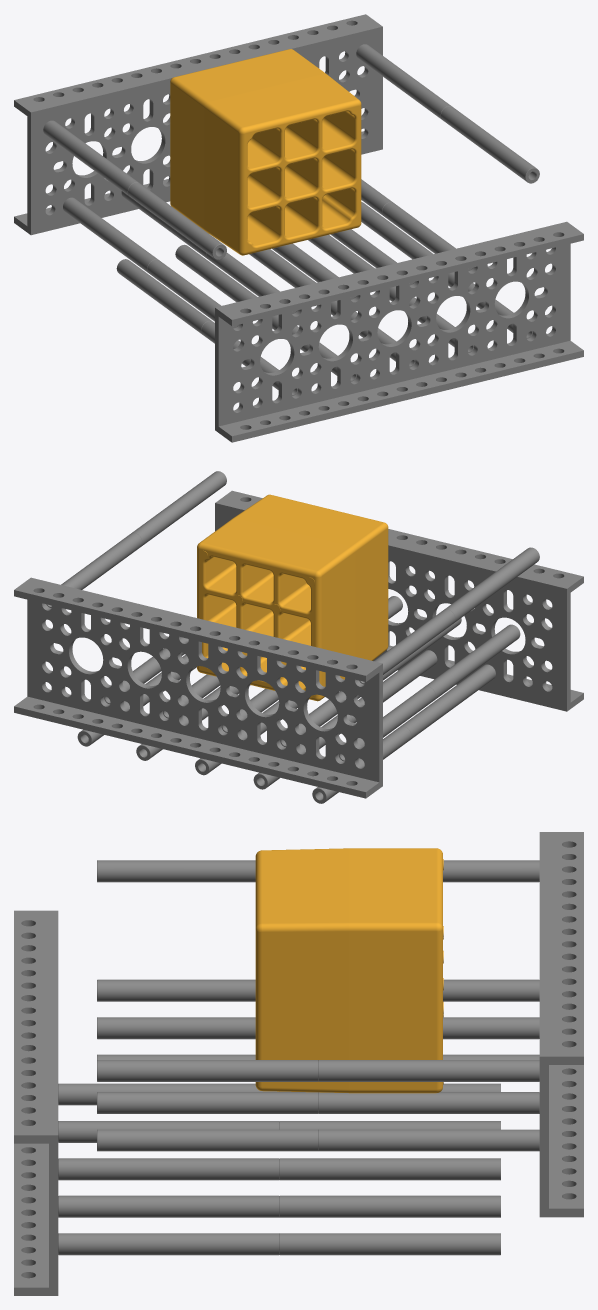
File: gratetransfer.glb
3 renders of one model, top to bottom at view 1: azimuth 30°, elevation 25°; view 2: azimuth 150°, elevation 25°; view 3: azimuth 270°, elevation 25°, orthographic. The views are drawn at different scales.
Visible parts, largest first — view 1: Grate Transfer, Grate Transfer.001; view 2: Grate Transfer, Grate Transfer.001; view 3: Grate Transfer, Grate Transfer.001.
Part boxes in pixels (x1,y1,x2,y2): Grate Transfer: [14, 14, 539, 328]; Grate Transfer.001: [116, 202, 583, 442]; Grate Transfer: [14, 471, 539, 798]; Grate Transfer.001: [77, 490, 583, 803]; Grate Transfer: [97, 832, 583, 1217]; Grate Transfer.001: [14, 910, 500, 1295].
Bounding box in the file's own units: 4.32 × 2.59 × 4.63.
